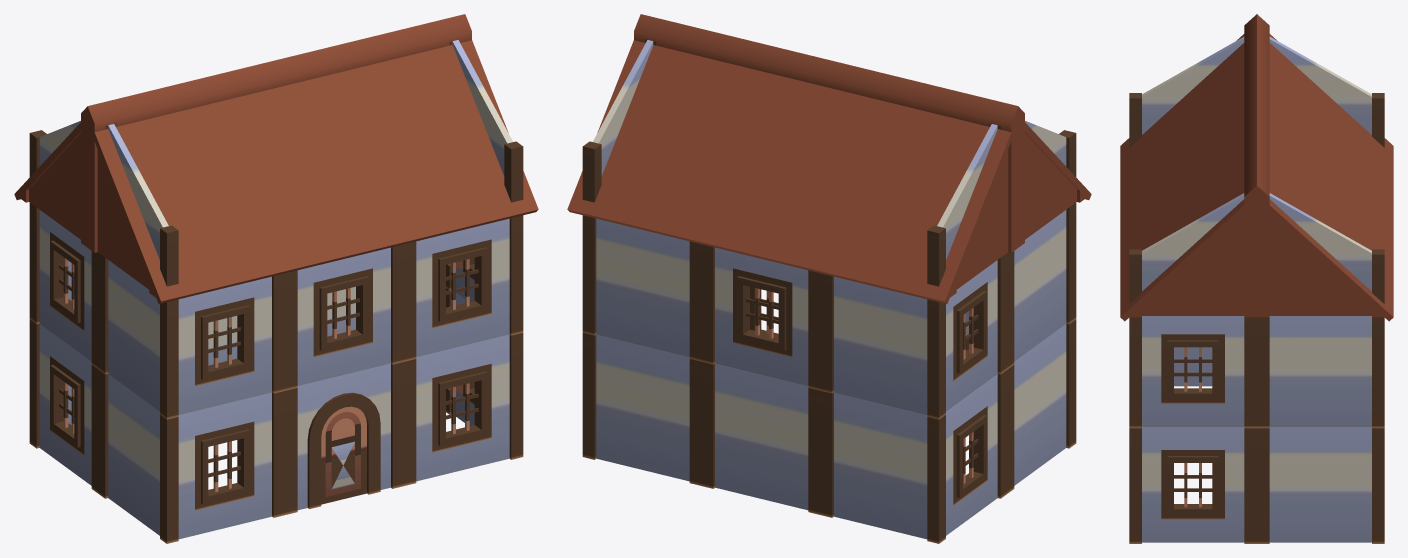
File: maison-village-3.glb
3 views of the same model, side by side, from view 1: azimuth 30°, elevation 25°; view 2: azimuth 150°, elevation 25°; view 3: azimuth 270°, elevation 25° (orthographic). The views are drawn at different scales.
Parts seen in each view (by area): view 1: wall-window-shutters, roof-high; view 2: wall-window-shutters, roof-high; view 3: wall-window-shutters, roof-high.
Part boxes in pixels (x1,y1,x2,y2): wall-window-shutters: (29, 40, 523, 543); roof-high: (14, 14, 538, 303); wall-window-shutters: (582, 39, 1076, 543); roof-high: (567, 14, 1091, 303); wall-window-shutters: (1129, 37, 1384, 543); roof-high: (1120, 14, 1393, 321).
Bounding box in the file's own units: 9.54 × 9.42 × 6.42.
Materials: 2 (1 with a texture image).
